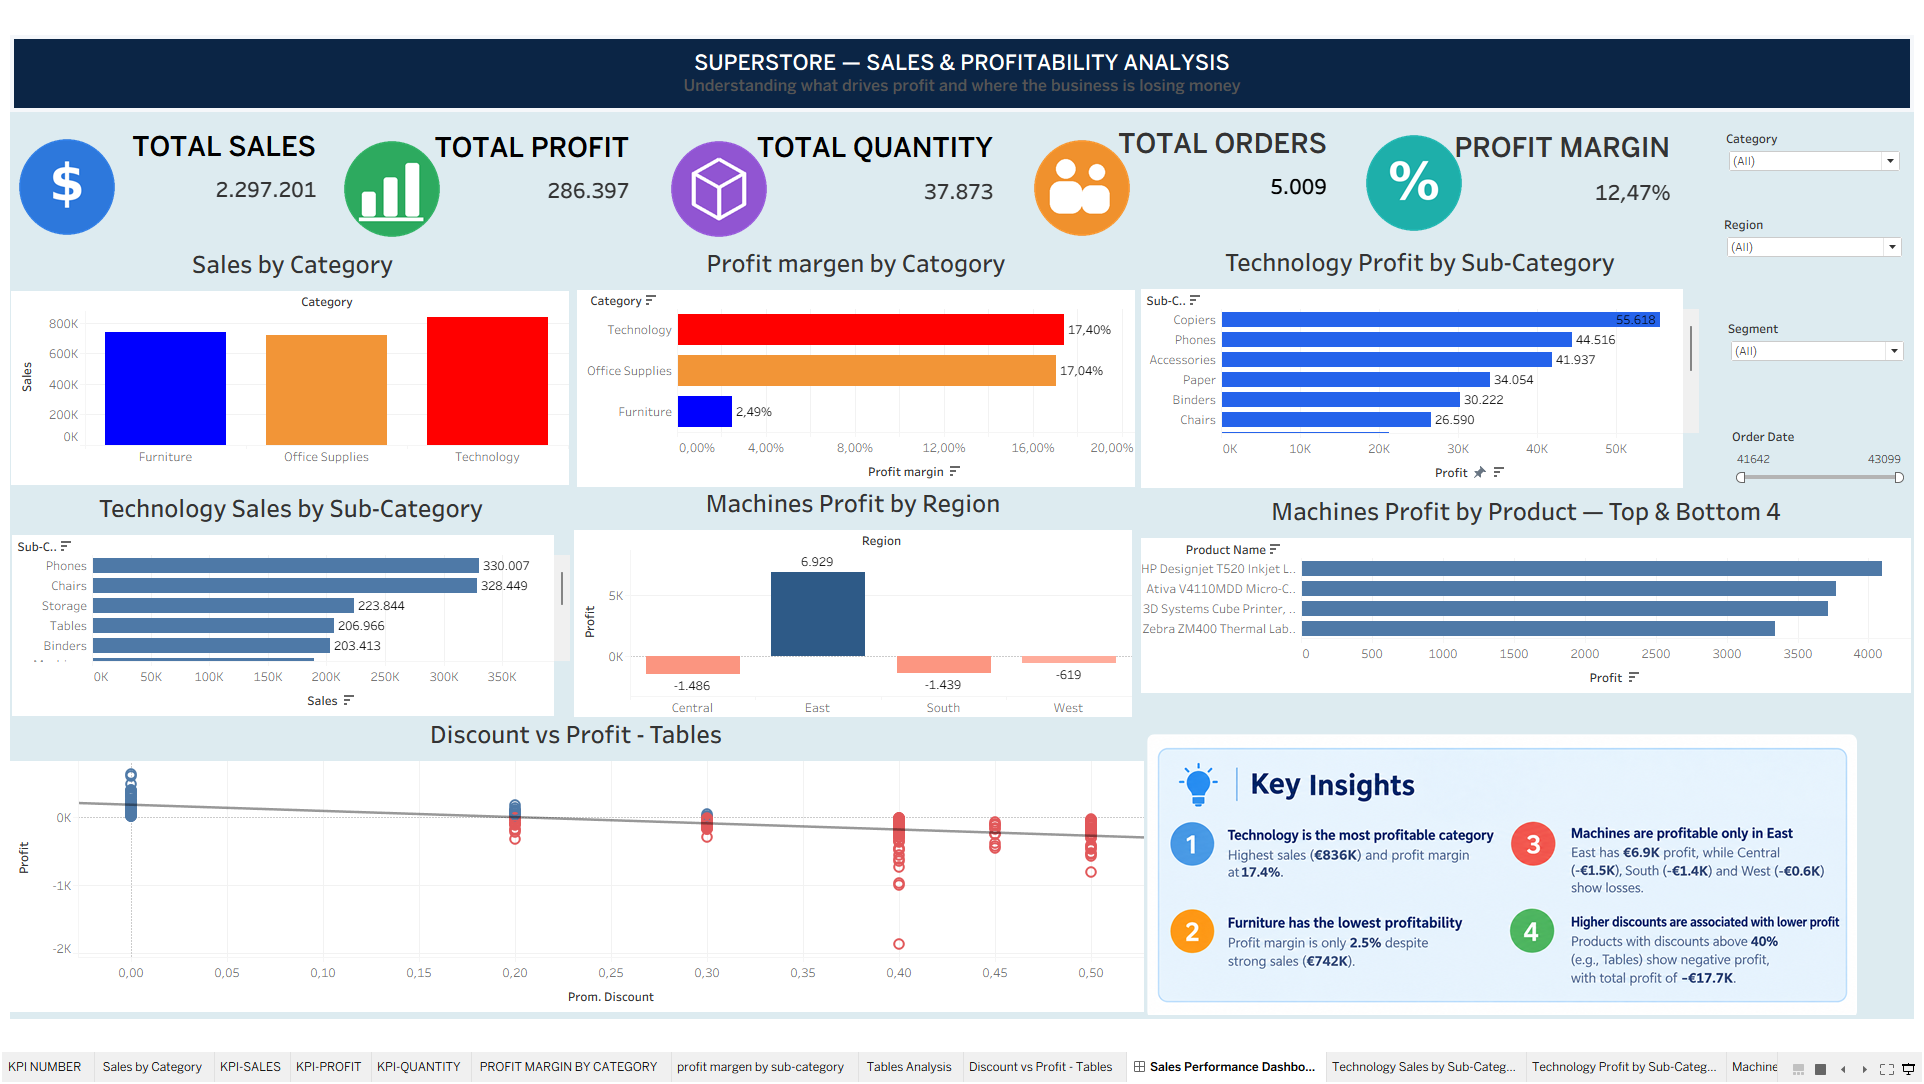

The page's visual inventory and layout, read from the dashboard file:
{"tool":"tableau","page":{"name":"Sales Performance Dashboard","canvas":[1000,1000],"units":"permille","ordinal":0},"visuals":[{"type":"title","box":[4.8,9.5,990.5,91.5]},{"type":"worksheet","title":"TOTAL ORDERS","mark":"Automatic","box":[528.5,97.4,163.4,118.8]},{"type":"worksheet","title":"KPI-SALES","mark":"Automatic","box":[8.7,99.8,157,118.8]},{"type":"image","box":[4.8,101,246.9,889.6]},{"type":"worksheet","title":"KPI-PROFIT","mark":"Automatic","box":[172.1,101,157,117.6]},{"type":"image","box":[251.7,101,248.3,889.6]},{"type":"worksheet","title":"KPI-QUANTITY","mark":"Automatic","box":[348.8,101,169.2,118.8]},{"type":"image","box":[500,101,247.2,889.6]},{"type":"worksheet","title":"KPI - Profit Margin","mark":"Automatic","box":[704.6,101,166.3,118.8]},{"type":"image","box":[747.2,101,248.1,889.6]},{"type":"image","param":"Image/profit_margin_icon.png","box":[707.8,103.3,59,104.5]},{"type":"filter","title":" Sales by Category","param":"[federated.1mysuaz0d6ihvq1335cgi1m4wgfl].[none:Category:nk]","box":[897.7,103.3,92.4,82]},{"type":"image","param":"Image/sales_icon.png","box":[6.4,106.9,58.7,104.5]},{"type":"image","param":"Image/orders_icon.png","box":[535.1,108.1,58.5,104.5]},{"type":"image","param":"Image/profit_icon.png","box":[175.6,109.3,58.1,104.5]},{"type":"image","param":"Image/quantity_icon.png","box":[345.9,109.3,58.7,104.5]},{"type":"filter","title":" Sales by Category","param":"[federated.1mysuaz0d6ihvq1335cgi1m4wgfl].[none:Region:nk]","box":[897.1,188.8,94.2,108.1]},{"type":"worksheet","title":"Technology Profit by Sub-Category","mark":"Automatic","rows":["Sub-Category"],"cols":["Profit"],"box":[593,213.8,290.6,247]},{"type":"worksheet","title":" PROFIT MARGIN BY CATEGORY ","mark":"Bar","rows":["Category"],"cols":["Calculation_1147391139184641"],"box":[299.4,215,290.7,244.7]},{"type":"worksheet","title":" Sales by Category","mark":"Automatic","rows":["Sales"],"cols":["Category"],"box":[4.7,216.2,290.7,242.3]},{"type":"filter","title":" Sales by Category","param":"[federated.1mysuaz0d6ihvq1335cgi1m4wgfl].[none:Segment:nk]","box":[898.8,293.4,93,118.8]},{"type":"filter","title":" Sales by Category","param":"[federated.1mysuaz0d6ihvq1335cgi1m4wgfl].[none:Order Date:qk]","box":[901.2,401.4,91.9,72.5]},{"type":"worksheet","title":"Machines Profit by Region","mark":"Bar","rows":["Profit"],"cols":["Region"],"box":[298.1,454.9,290.6,235.2]},{"type":"worksheet","title":"Technology Sales by Sub-Category","mark":"Automatic","rows":["Sub-Category"],"cols":["Sales"],"box":[5.2,459.6,290.7,229.2]},{"type":"worksheet","title":"Machines Profit by Product — Top & Bottom 4","mark":"Automatic","rows":["Product Name"],"cols":["Profit"],"box":[593,463.2,401.2,415.7]},{"type":"worksheet","title":"Discount vs Profit - Tables","mark":"Automatic","rows":["Profit"],"cols":["Discount"],"box":[2.9,686.5,591.9,299.3]},{"type":"image","param":"Image/ChatGPT Image 1 oct 2026, 14_43_43.png","box":[596.2,706.6,370,285]}]}

Visuals, with their boxes on the dashboard's canvas, which has no fixed pixel size, in thousandths of its width and height (x1, y1, x2, y2). These are canvas units, not pixel positions in the 1924x1084 screenshot, which may show the page scaled, cropped or inside an application window:
title: 5:10:995:101
"TOTAL ORDERS" worksheet: 528:97:692:216
"KPI-SALES" worksheet: 9:100:166:219
image: 5:101:252:991
"KPI-PROFIT" worksheet: 172:101:329:219
image: 252:101:500:991
"KPI-QUANTITY" worksheet: 349:101:518:220
image: 500:101:747:991
"KPI - Profit Margin" worksheet: 705:101:871:220
image: 747:101:995:991
image: 708:103:767:208
" Sales by Category" filter: 898:103:990:185
image: 6:107:65:211
image: 535:108:594:213
image: 176:109:234:214
image: 346:109:405:214
" Sales by Category" filter: 897:189:991:297
"Technology Profit by Sub-Category" worksheet: 593:214:884:461
" PROFIT MARGIN BY CATEGORY " worksheet (Bar marks): 299:215:590:460
" Sales by Category" worksheet: 5:216:295:458
" Sales by Category" filter: 899:293:992:412
" Sales by Category" filter: 901:401:993:474
"Machines Profit by Region" worksheet (Bar marks): 298:455:589:690
"Technology Sales by Sub-Category" worksheet: 5:460:296:689
"Machines Profit by Product — Top & Bottom 4" worksheet: 593:463:994:879
"Discount vs Profit - Tables" worksheet: 3:686:595:986
image: 596:707:966:992
